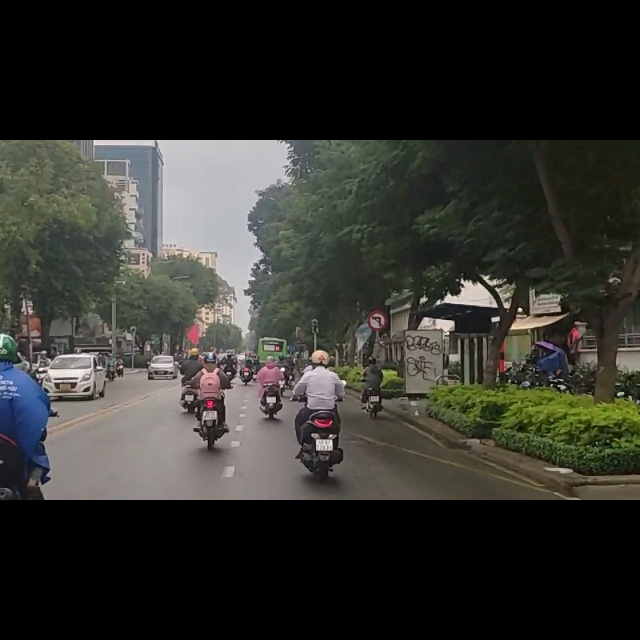bien_cam: (366, 305, 387, 340)
